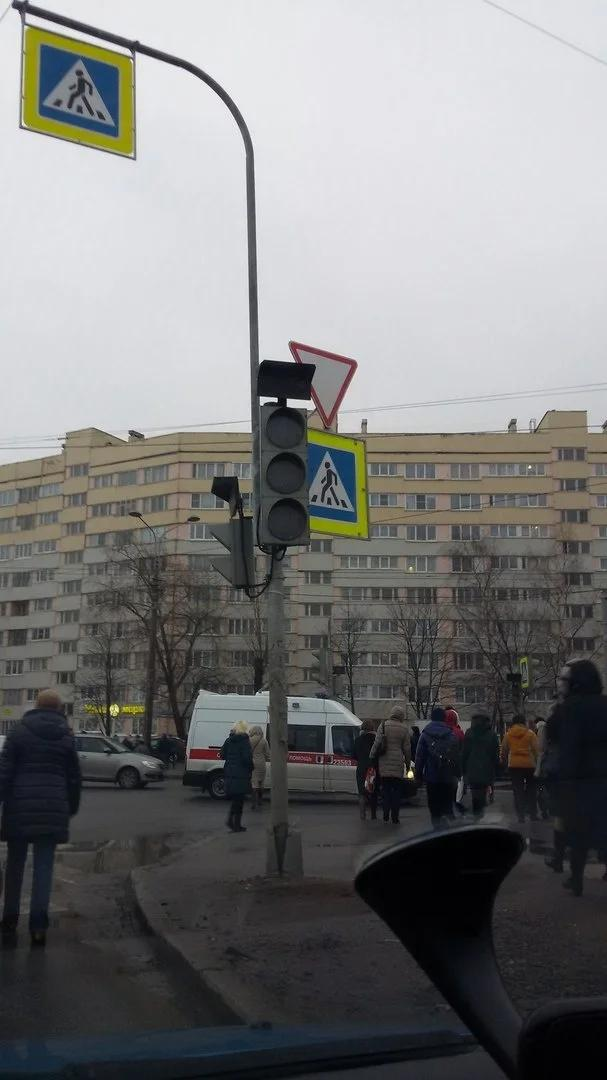obstructed_road_sign: (289, 341, 357, 428)
off traffic light: (254, 406, 309, 546), (206, 517, 254, 589), (256, 359, 315, 400)
road_sign: (21, 24, 133, 159), (308, 427, 369, 539)
